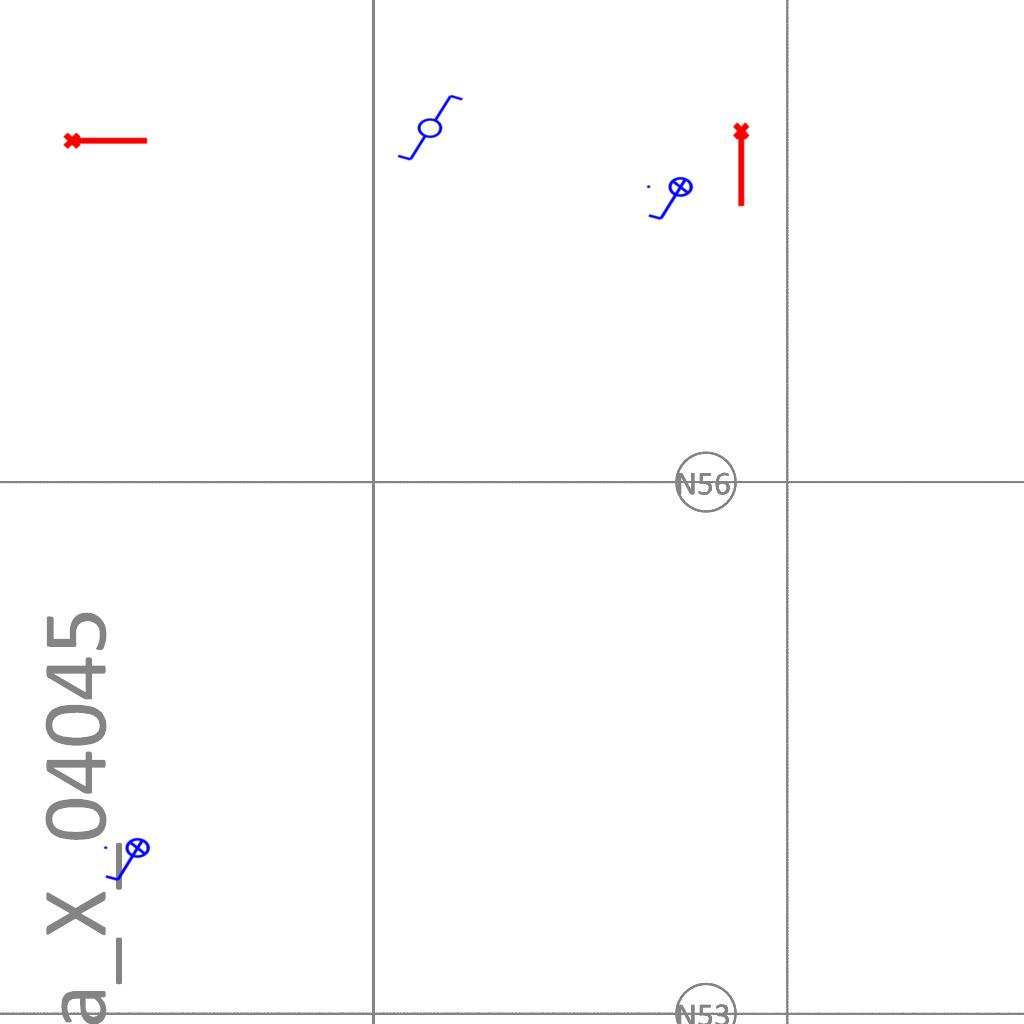ASR_Ansaugoeffnung: (62, 128, 150, 151), (731, 121, 754, 209)
Ausschalter_beleuchtet: (101, 837, 157, 885), (644, 176, 700, 224)
Wechselschalter: (387, 91, 465, 163)
